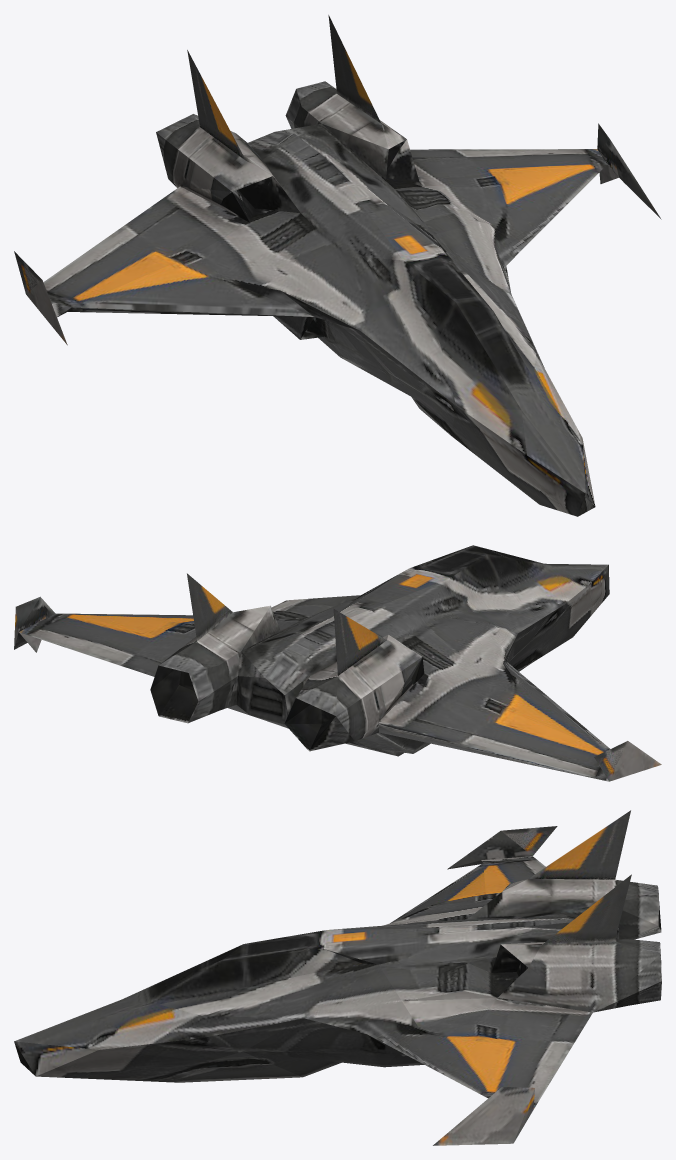
Rendered from interceptor-far.glb.
3 renders of one model, top to bottom at view 1: azimuth 30°, elevation 25°; view 2: azimuth 150°, elevation 25°; view 3: azimuth 270°, elevation 25°, orthographic. The views are drawn at different scales.
Parts seen in each view (by area): view 1: Low; view 2: Low; view 3: Low.
Boxes of the visible parts, box(x1,y1,x2,y2) form: Low: box(14, 15, 661, 516); Low: box(14, 545, 661, 781); Low: box(14, 810, 661, 1145).
Bounding box in the file's own units: 1.68 × 0.6946 × 1.71.
1 material, 1 textured.
